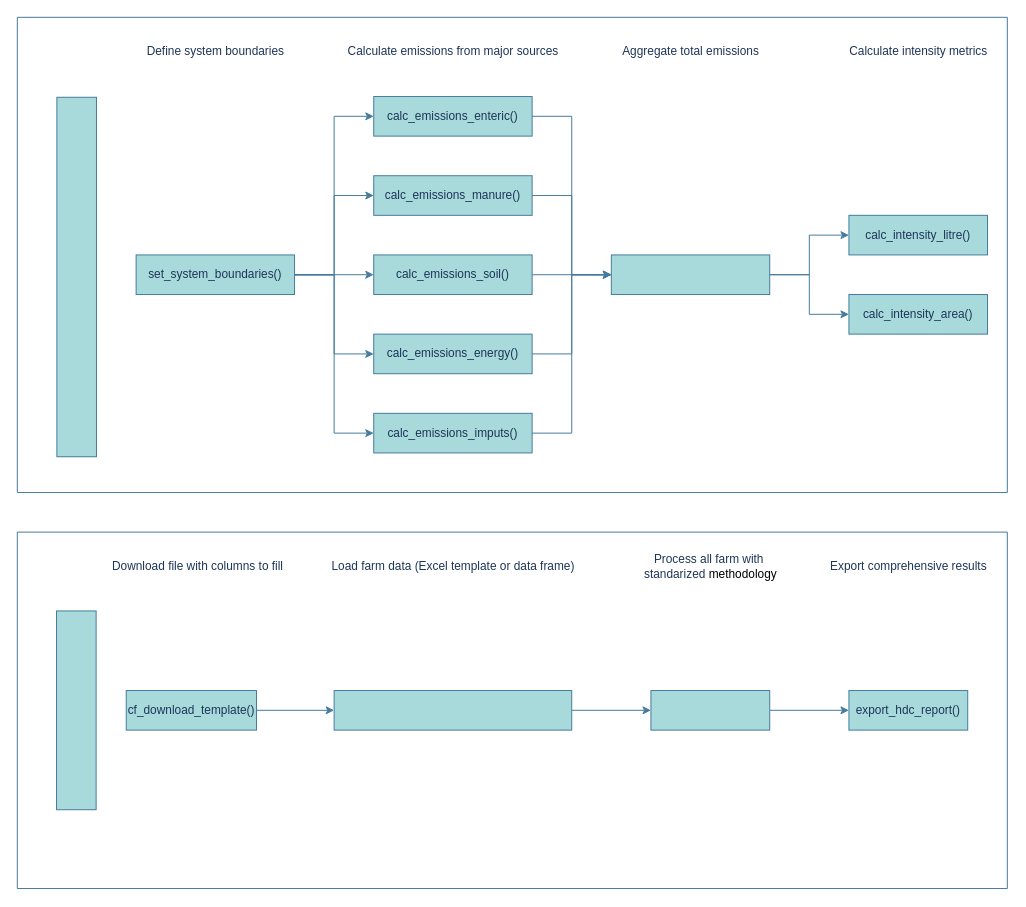
Image size: 1026x907. Some labels were removed from this diagram. Each missing label, with the centre of its shape:
Batch Processing Multiple Farms: [76,710]
calc_batch(): [710,710]
calc_total_emissions(): [690,274]
Processing Single Farm: [76,276]
readxl::read_excel("farms_template.xlsx"): [452,710]
